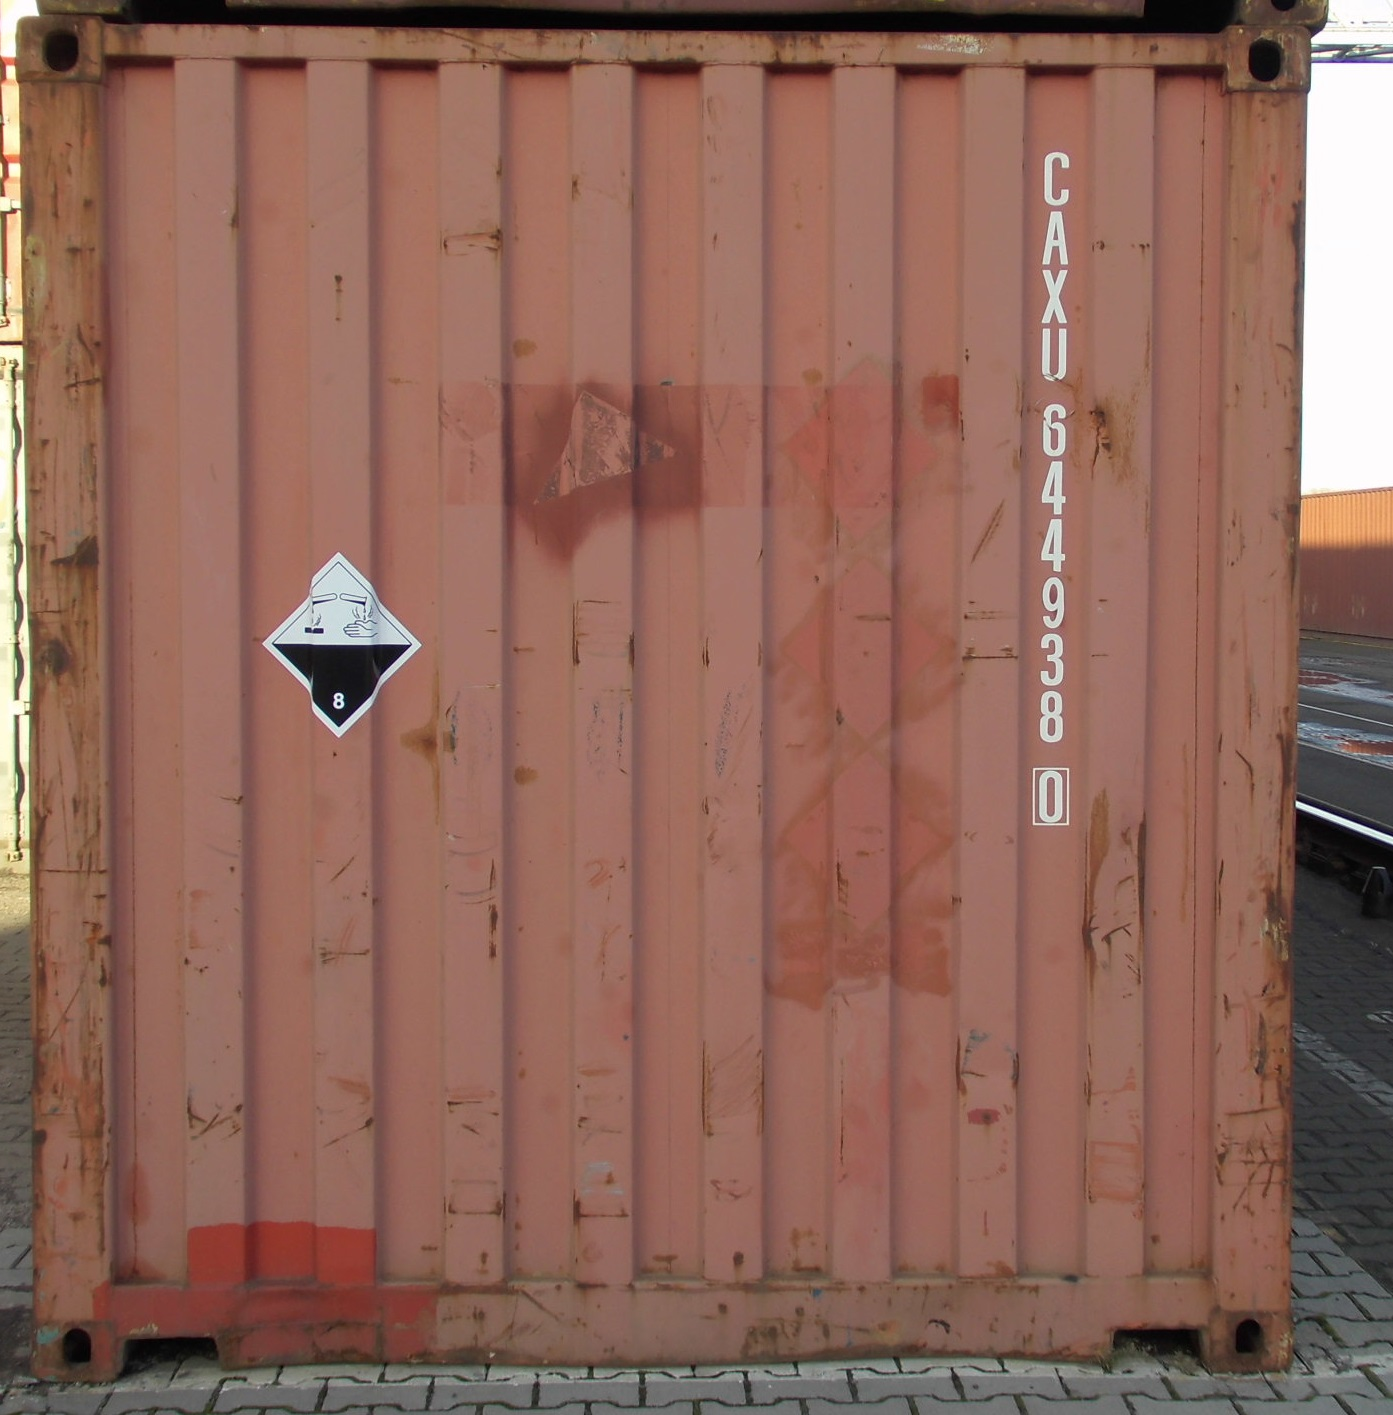container_no_door: (31, 11, 1296, 1383)
